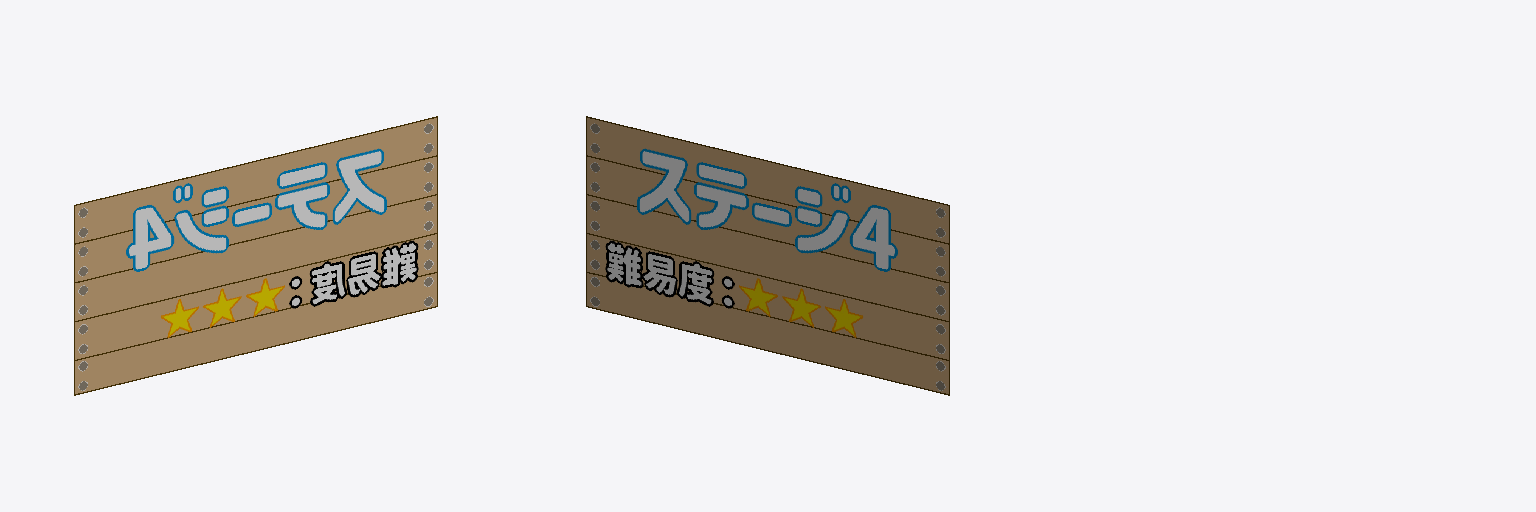
3 views of the same model, side by side, from view 1: azimuth 30°, elevation 25°; view 2: azimuth 150°, elevation 25°; view 3: azimuth 270°, elevation 25° (orthographic).
Visible parts, largest first — view 1: 平面; view 2: 平面; view 3: none.
Boxes of the visible parts, x1=… form: 平面: x1=74, y1=116, x2=437, y2=395; 平面: x1=586, y1=116, x2=949, y2=395.
Size of the model in its own units: 4 by 2 by 0.
Materials: 1 (1 with a texture image).